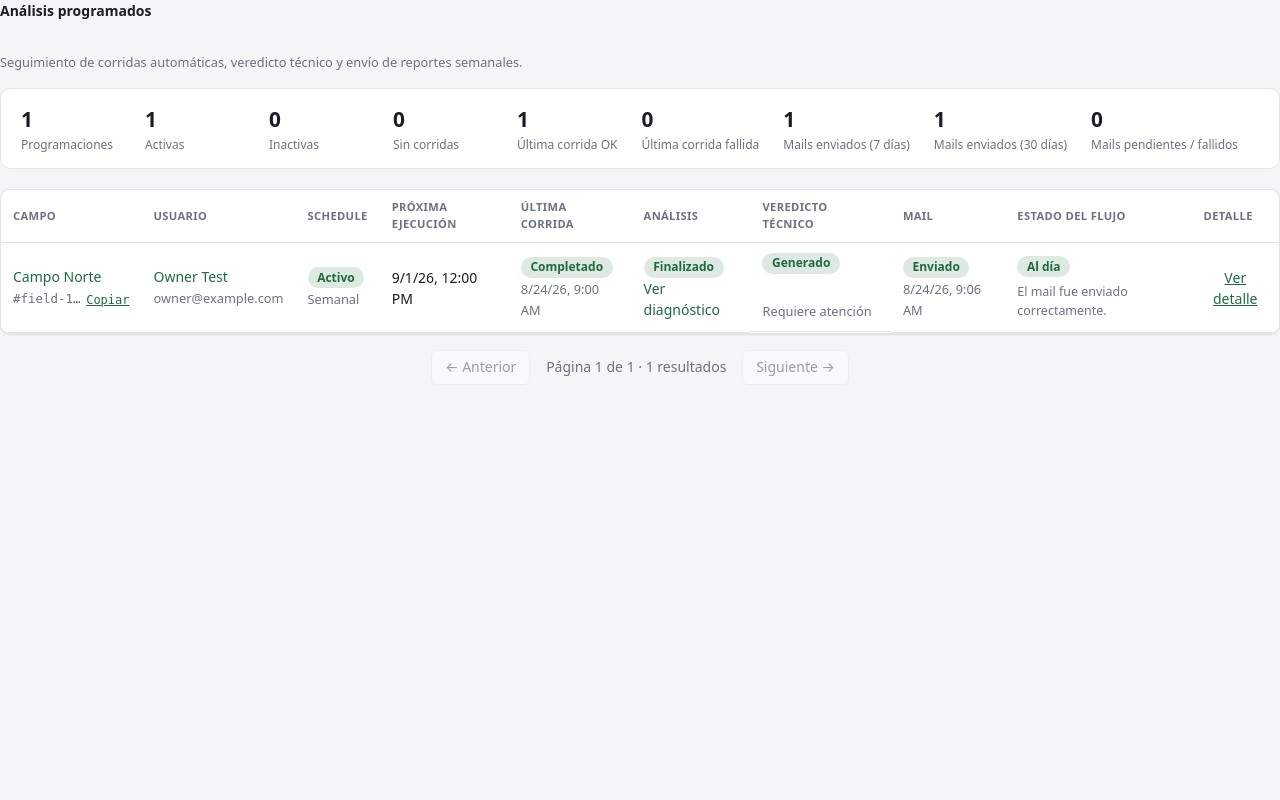
Test: ScheduledAnalysisComponent (PR 13B) › muestra generator=claude y promptVersion en el detalle
Click the button with class "detail-toggle". click: {"x": 1235, "y": 288}
box: left=1204, top=266, right=1267, bottom=308
(page scrolled)
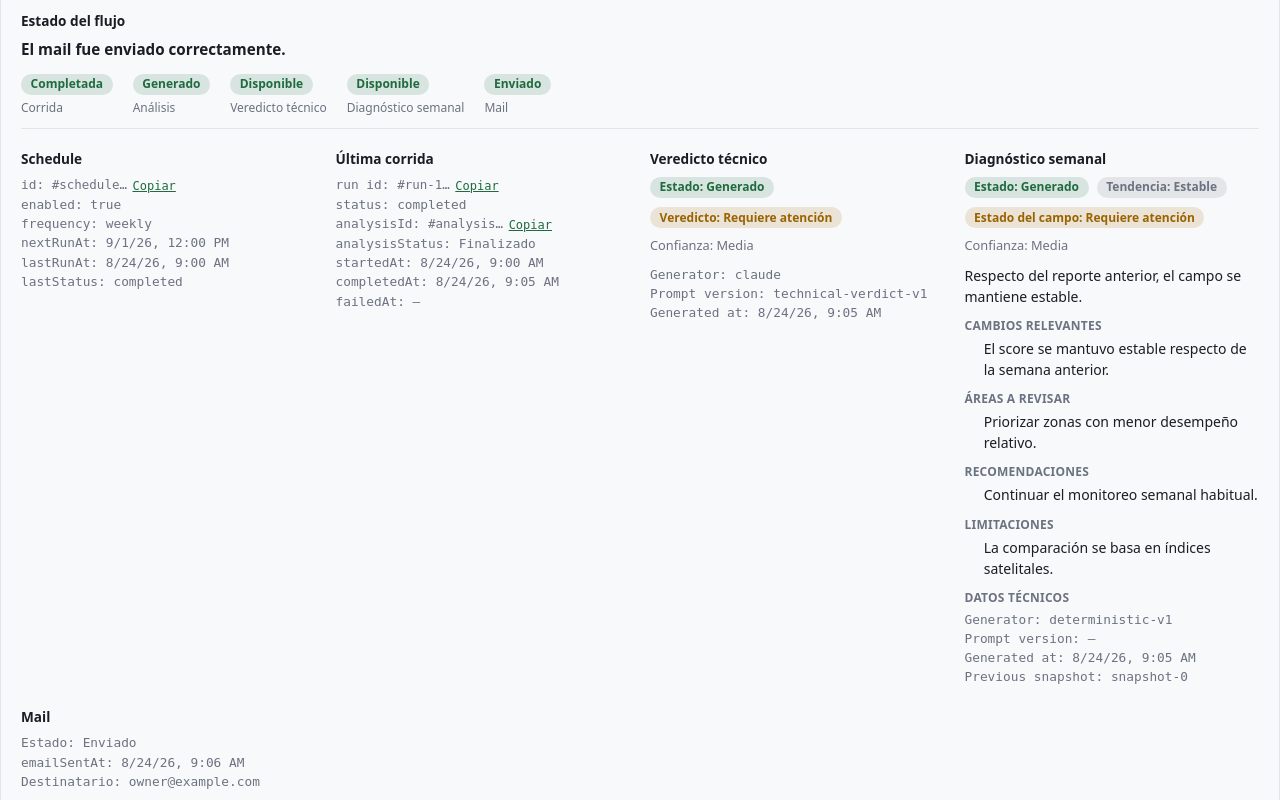
Now the element that starts with "Estado del flujo" shows "Generator: claude", box left=650, top=267, right=781, bottom=282
